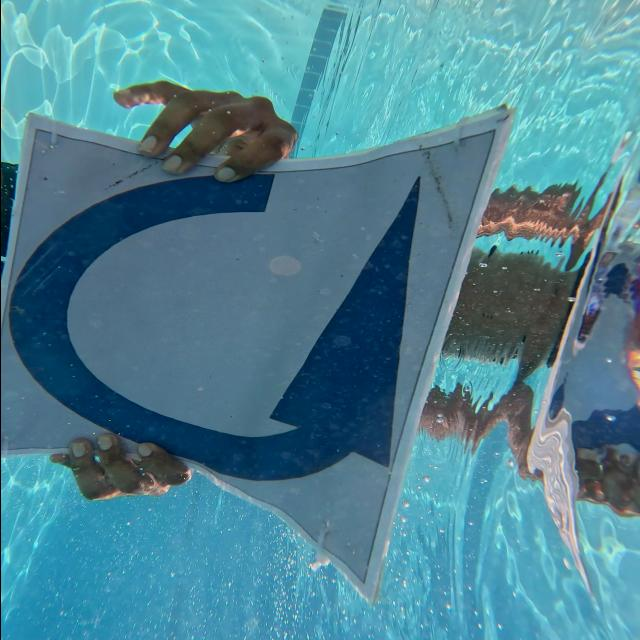blue_side: (0, 124, 526, 569)
